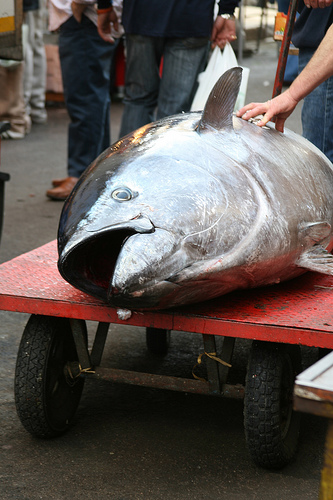fish: (55, 65, 331, 308)
